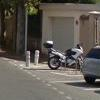Motorcycle: (39, 35, 81, 74)
